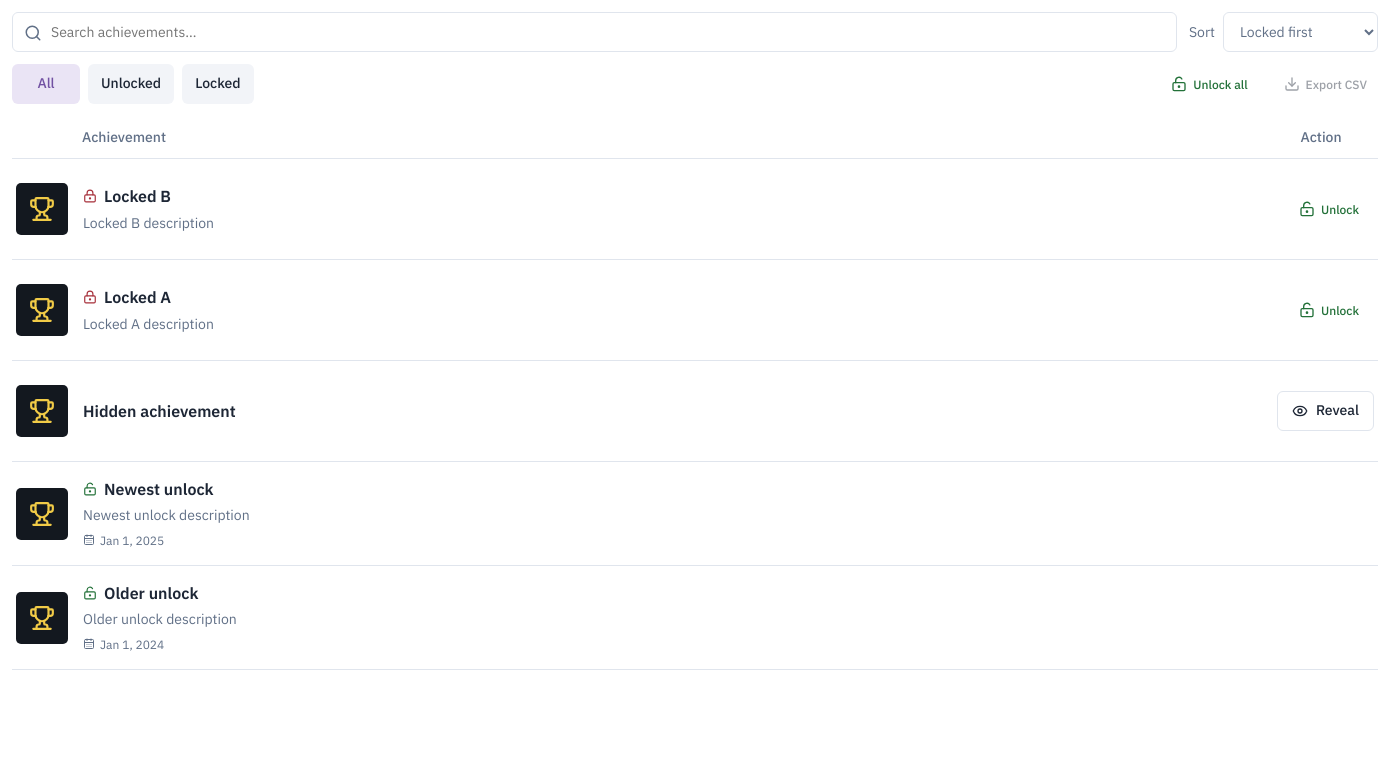
conceals hidden information and focuses the direct add action after reveal
This screenshot has width=1390, height=780.
Expected: the text "Secret title" is not shown
Expected: the text "Secret description" is not shown
Click the button "Reveal".
click(1325, 411)  # box x1=1277 y1=391 x2=1374 y2=431
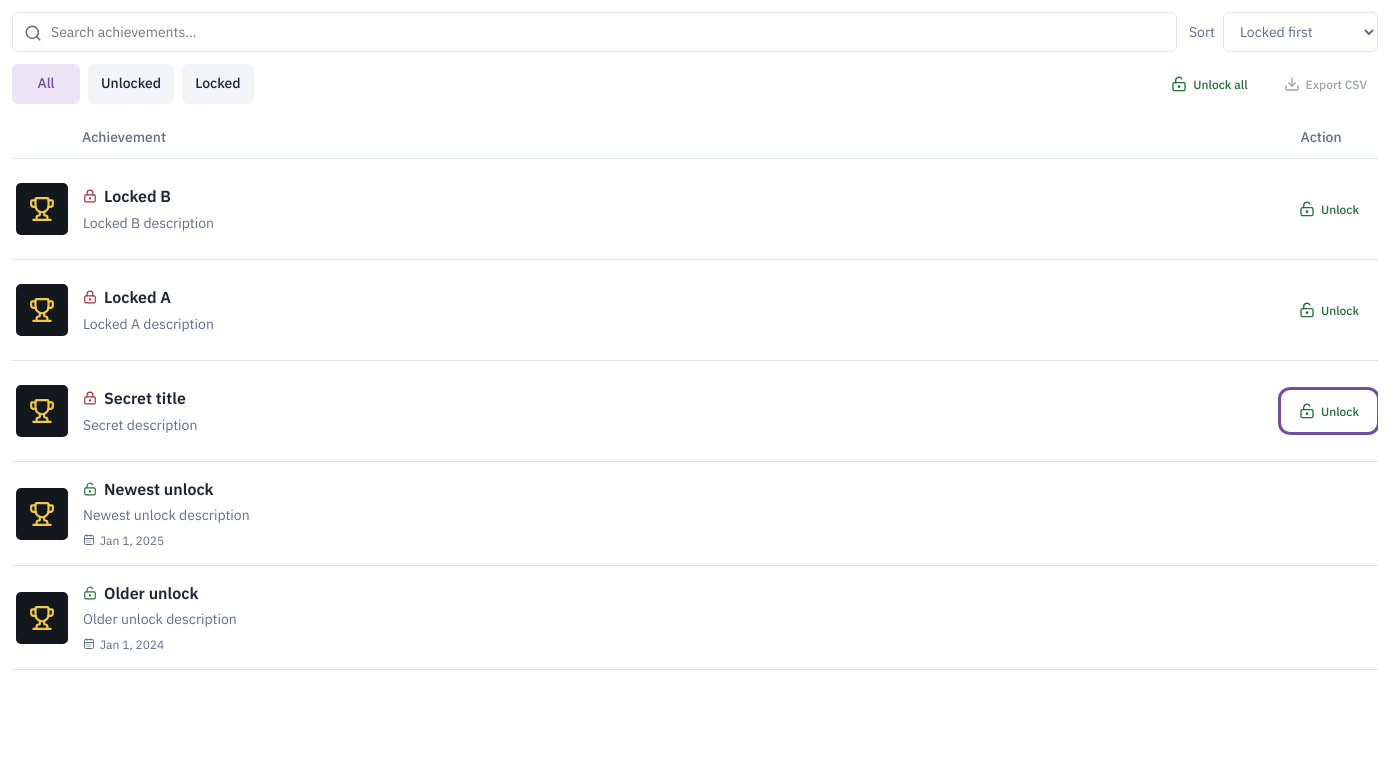
Expected: the text "Secret description" is shown, x1=83 y1=416 x2=197 y2=434
